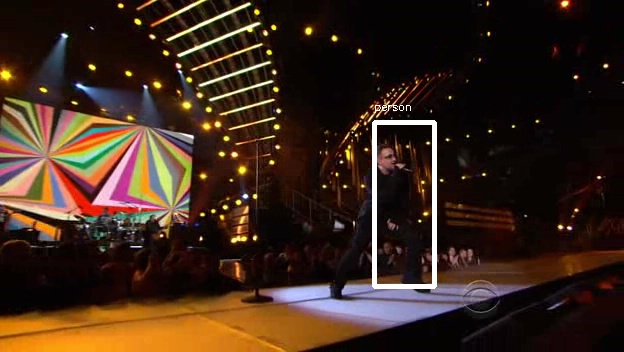person: (355, 146, 420, 253), (352, 146, 417, 253), (358, 146, 423, 253), (355, 143, 420, 250), (355, 149, 420, 256)
target_negative: (35, 99, 238, 278), (43, 266, 511, 290), (194, 241, 608, 263), (139, 216, 218, 309), (491, 231, 509, 323), (541, 227, 557, 277)
